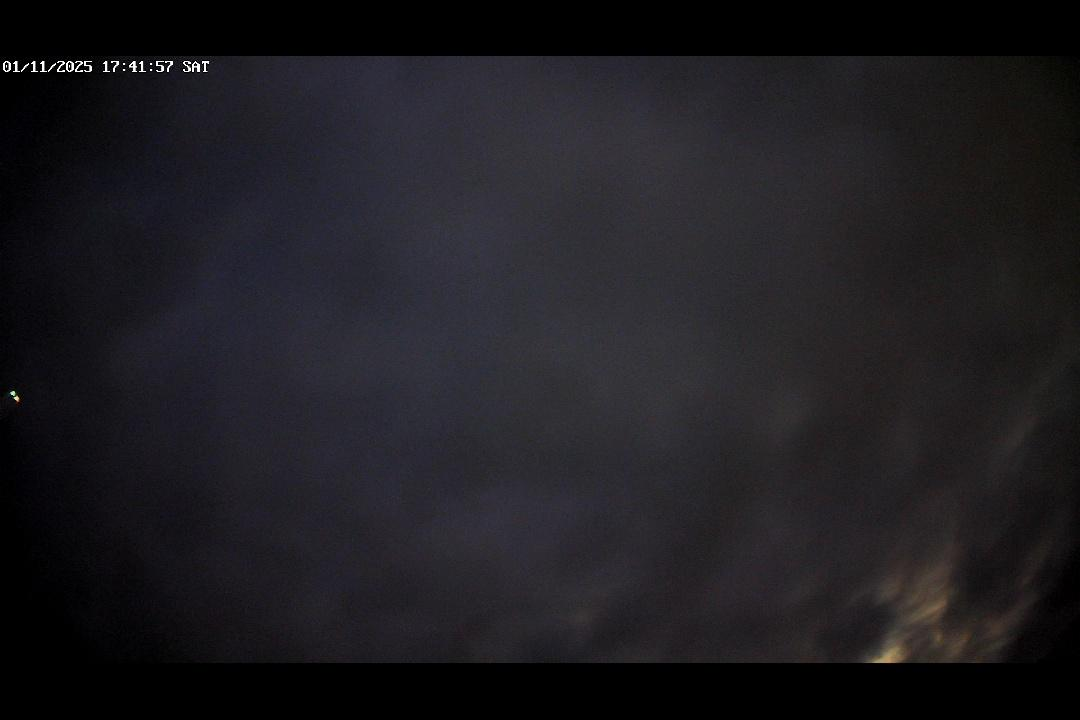Plane: (4, 385, 29, 417)
